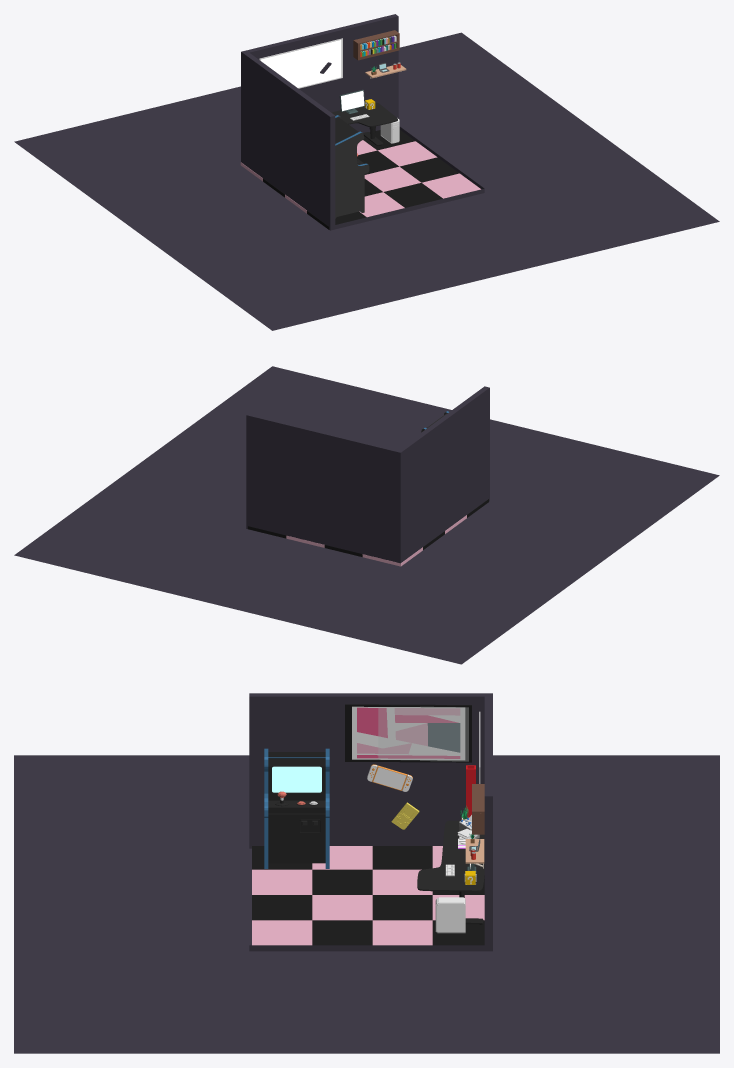
The model's file is scene_light2.gltf.
The picture shows the model from 3 angles, top to bottom: view 1: azimuth 30°, elevation 25°; view 2: azimuth 150°, elevation 25°; view 3: azimuth 270°, elevation 25°; orthographic projection. The views are drawn at different scales.
Visible parts, largest first — view 1: Plane (×2), group202025954, White_board_Cube.045, ArcadeMachine_Cube002-Mesh_4, Plane001_Plane002; view 2: Plane (×2), group202025954; view 3: Plane (×2), group202025954, ArcadeMachine_Cube002-Mesh, Node-Mesh_6, Node-Mesh_1, Plane001_Plane002, Node-Mesh_2, Node-Mesh_3, Node-Mesh, GameScreen_Plane, ArcadeMachine_Cube002-Mesh_1, PC (+2 smaller).
Boxes of the visible parts, box(x1,y1,x2,y2) form: Plane (×2): box(14, 14, 719, 330); group202025954: box(240, 130, 480, 229); White_board_Cube.045: box(259, 38, 342, 88); ArcadeMachine_Cube002-Mesh_4: box(335, 116, 369, 218); Plane001_Plane002: box(331, 102, 397, 126); Plane (×2): box(14, 366, 719, 664); group202025954: box(248, 499, 488, 566); Plane (×2): box(14, 693, 719, 1053); group202025954: box(252, 846, 484, 945); ArcadeMachine_Cube002-Mesh: box(268, 752, 325, 863); Node-Mesh_6: box(378, 707, 468, 761); Node-Mesh_1: box(352, 706, 465, 760); Plane001_Plane002: box(417, 820, 484, 891); Node-Mesh_2: box(357, 707, 460, 758); Node-Mesh_3: box(357, 708, 460, 753); Node-Mesh: box(345, 704, 471, 762); GameScreen_Plane: box(272, 766, 321, 792); ArcadeMachine_Cube002-Mesh_1: box(264, 748, 329, 868); PC: box(435, 897, 465, 933).
Size of the model in its own units: 30 by 7.41 by 30.
